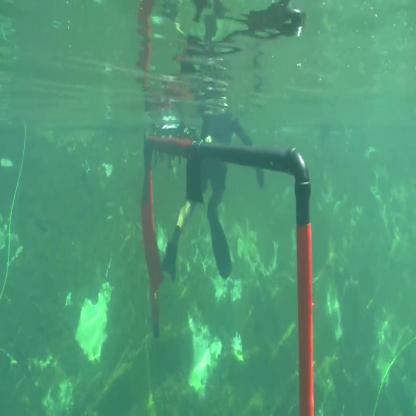gate: (140, 129, 317, 416)
